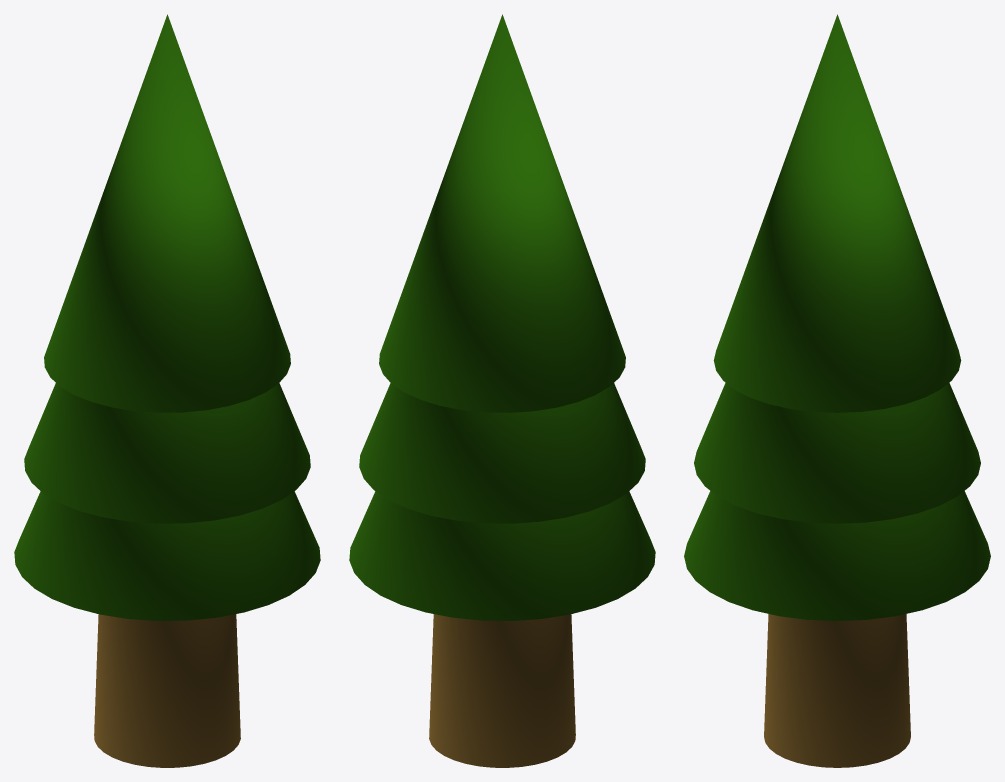
The model's file is tree3.fbx.
3 views of the same model, side by side, from view 1: azimuth 30°, elevation 25°; view 2: azimuth 150°, elevation 25°; view 3: azimuth 270°, elevation 25° (orthographic).
Parts seen in each view (by area): view 1: Circle; view 2: Circle; view 3: Circle.
Boxes of the visible parts, bbox=[...] form: Circle: bbox=[14, 14, 320, 767]; Circle: bbox=[349, 14, 655, 767]; Circle: bbox=[684, 14, 990, 767].
Size of the model in its own units: 417 by 1085 by 417.
